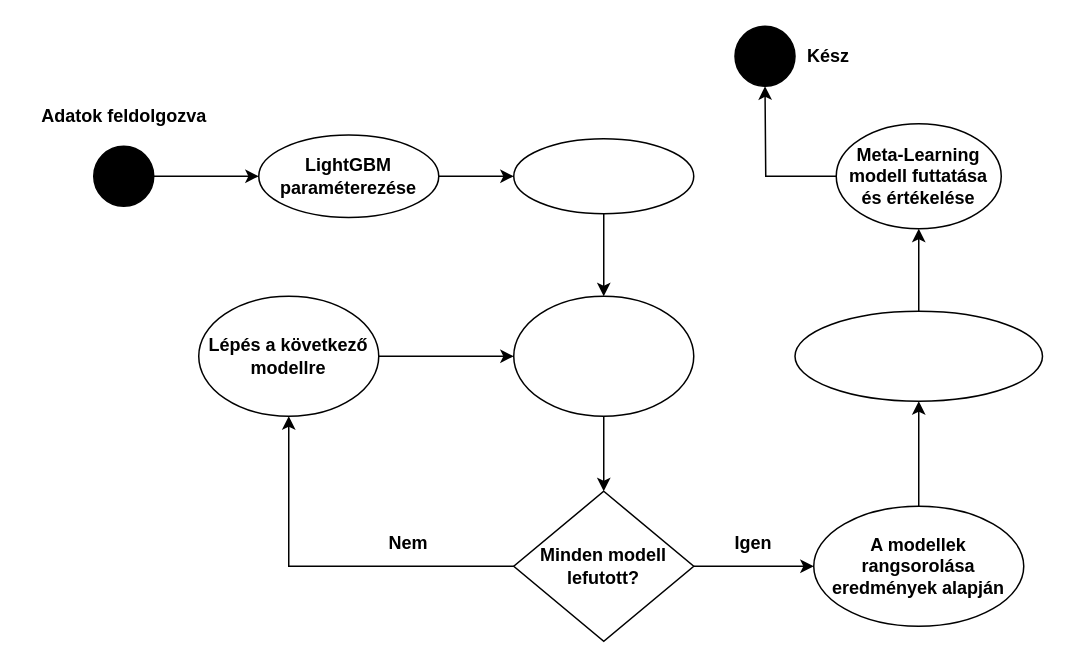
Some shapes in this 1068 by 668 pixel diagram are drawn without their labels. The shapes that lost their labels are listed below. From the top down, each one's centre as x and y in pixels, then its label:
At [603,175]: "XGBoost paraméterezése".
At [603,355]: "Egy modell futtatása és értékelése".
At [918,355]: "Legjobb 5 algoritmus egybeépítése egy modellé".
